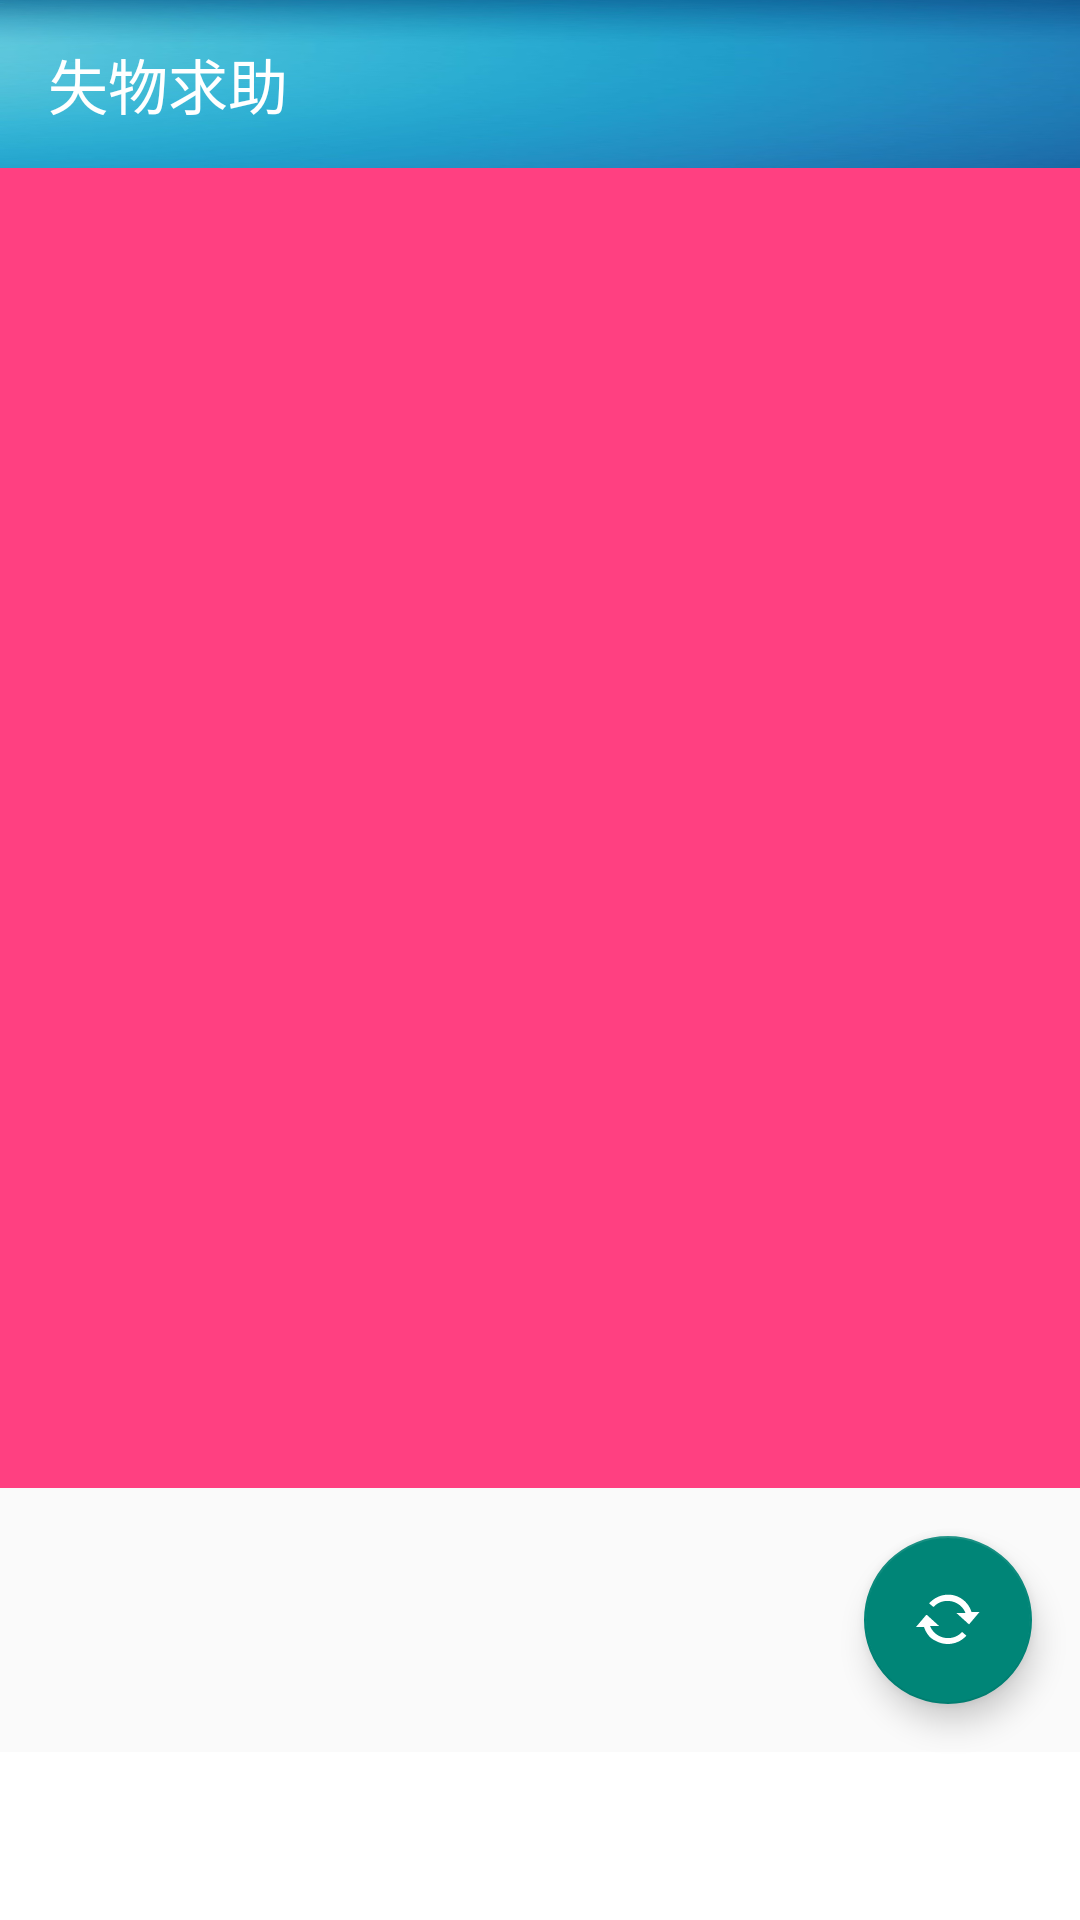

Point at icon controls on the screen. Image size 1080 × 1920, points as (x,y).
sync noanim: (948,1620)
